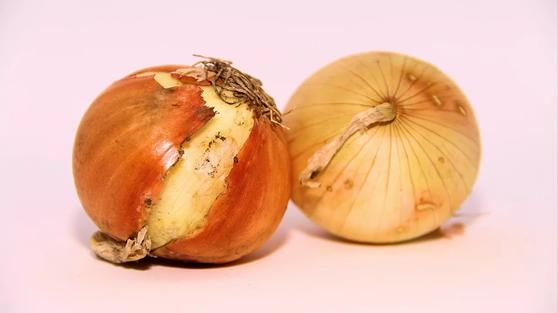onion: (69, 58, 296, 269), (278, 51, 486, 243)
